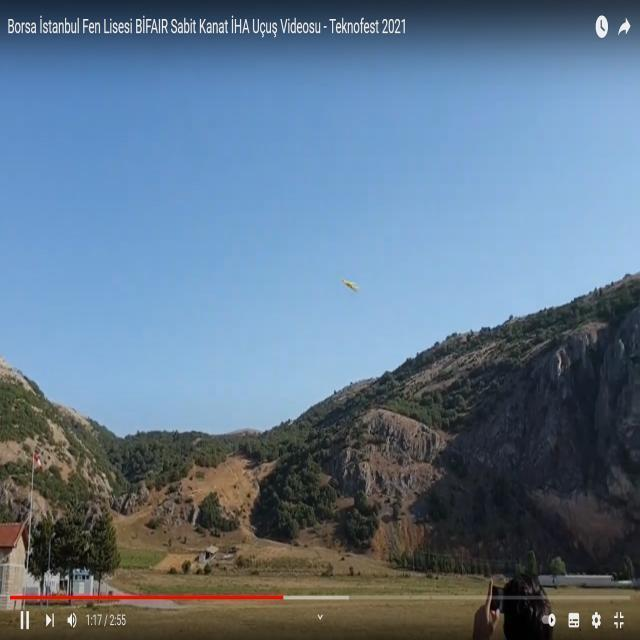iha: (334, 272, 376, 310)
